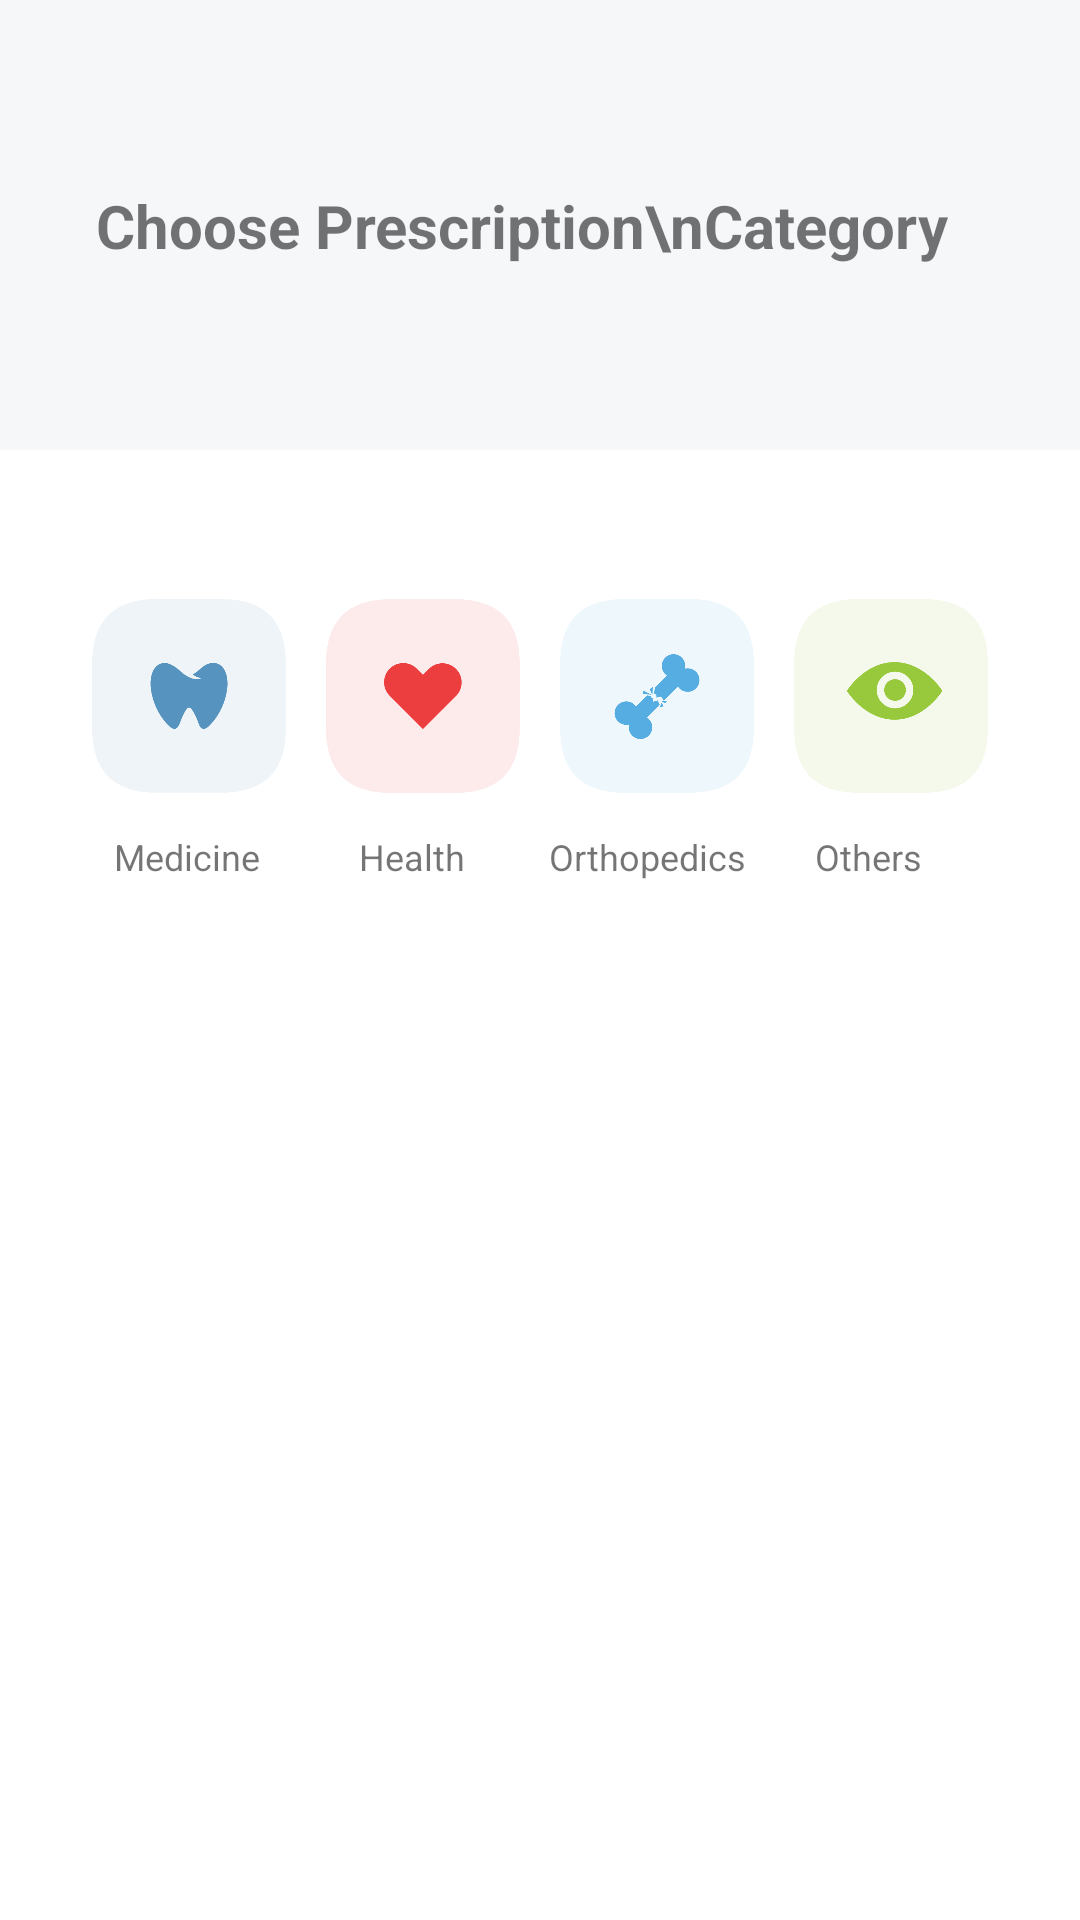

Point at icon controls on the screen. Image size 1080w x 1920h, points as point (x, y).
heart: point (423, 696)
